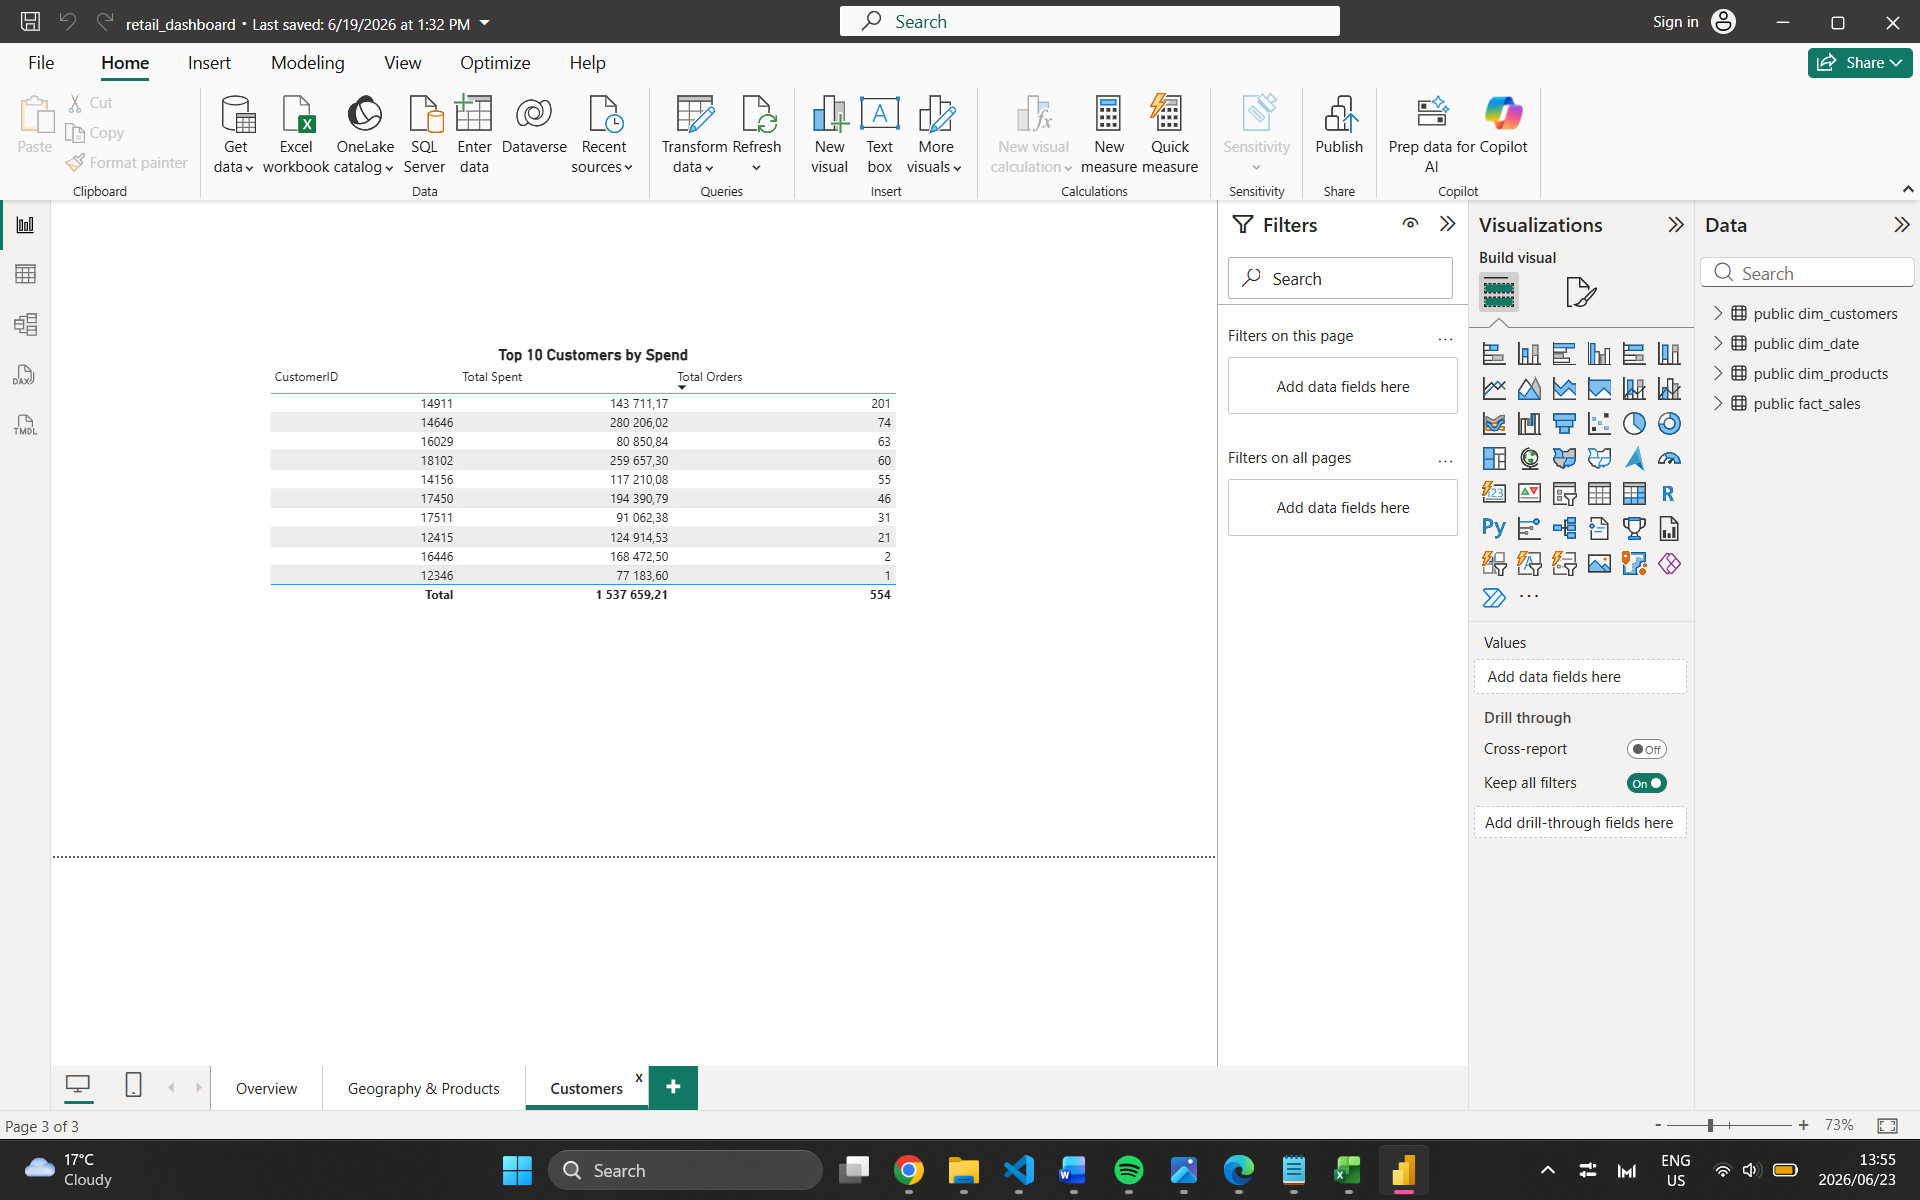

What the dashboard file says about the page in this screenshot:
{"tool":"powerbi","page":{"name":"Customers","canvas":[1280,720],"ordinal":2},"visuals":[{"type":"tableEx","title":"Top 10 Customers by Spend","fields":{"Values":["public fact_sales.CustomerID","Sum(public fact_sales.TotalPrice)","public fact_sales.InvoiceNo"]},"box":[235,158.8,721.2,318.8],"z":0}]}

Visuals, with their boxes on the page's 1280x720 design canvas (x1, y1, x2, y2). These are canvas units, not pixel positions in the 1920x1200 screenshot, which may show the page scaled, cropped or inside an application window:
"Top 10 Customers by Spend" tableEx: {"left": 235, "top": 159, "right": 956, "bottom": 478}
